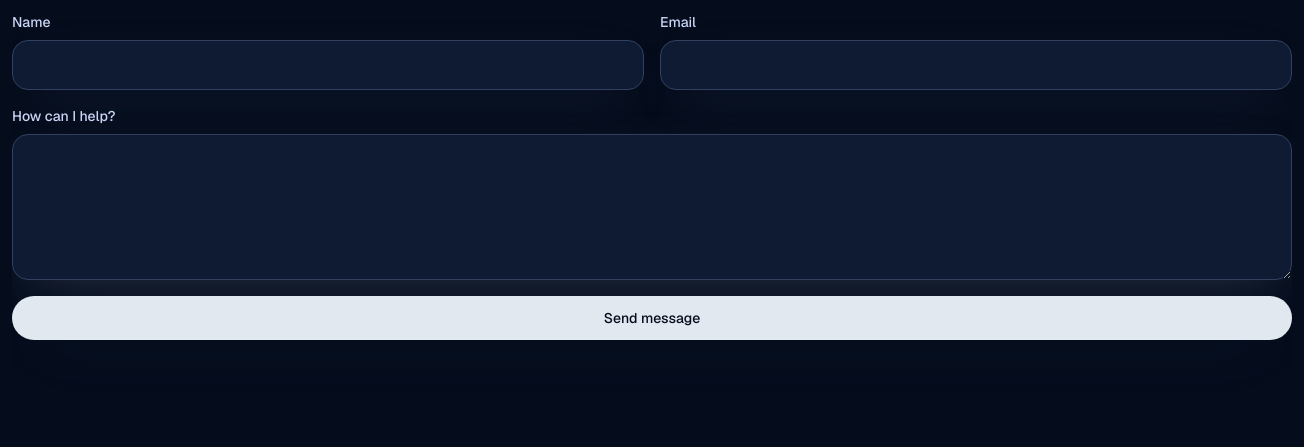
ContactForm › shows validation errors for empty required fields
Click the button "Send message" at (652, 318), box [12, 296, 1292, 340]
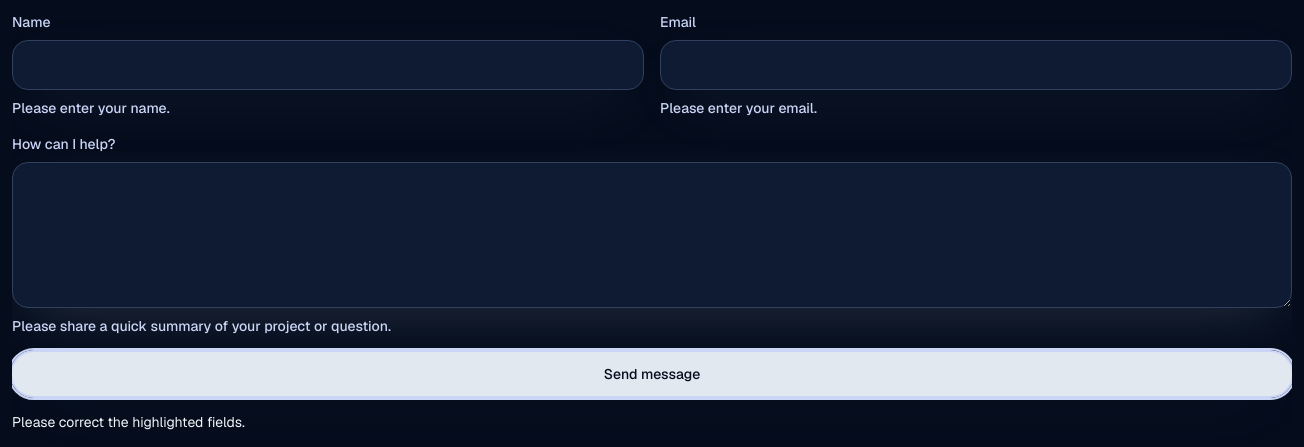
Expected: the text "Please enter your name." is shown, [12, 99, 170, 117]
Expected: the text "Please enter your email." is shown, [660, 99, 817, 117]
Expected: the text "Please share a quick summary of your project or question." is shown, [12, 317, 391, 335]
